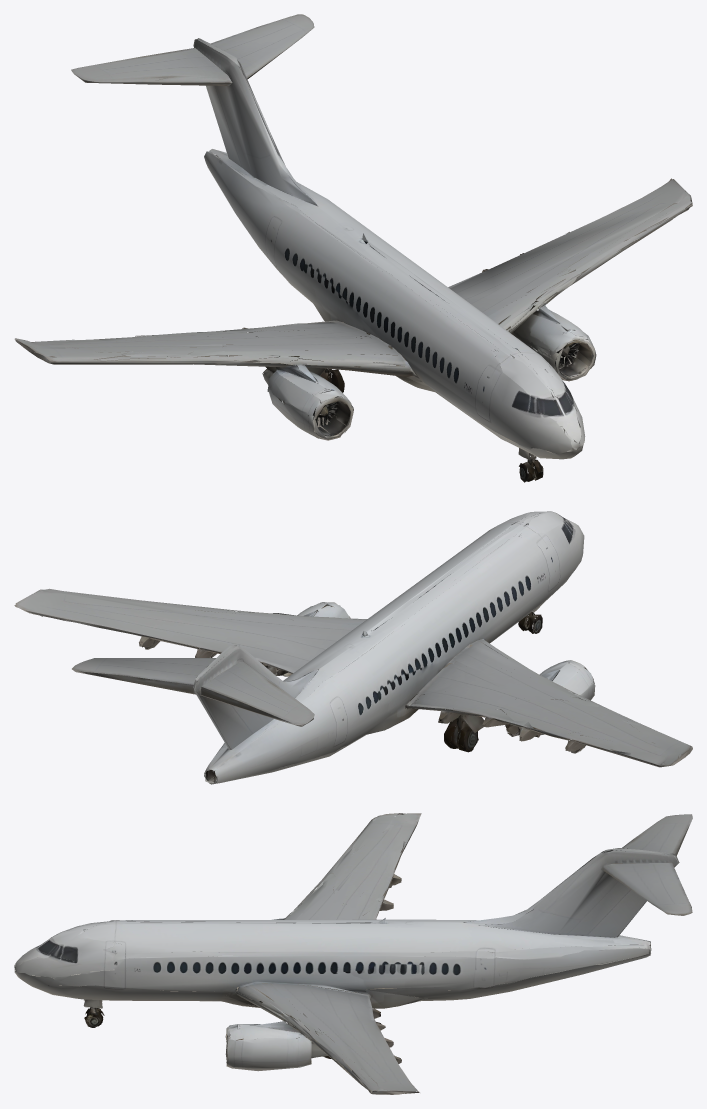
Rendered from airliner-white.glb.
The picture shows the model from 3 angles, top to bottom: view 1: azimuth 30°, elevation 25°; view 2: azimuth 150°, elevation 25°; view 3: azimuth 270°, elevation 25°; orthographic projection. The views are drawn at different scales.
Parts seen in each view (by area): view 1: node_0; view 2: node_0; view 3: node_0.
Part boxes in pixels (x1=…): node_0: x1=14, y1=14, x2=692, y2=482; node_0: x1=14, y1=511, x2=692, y2=784; node_0: x1=14, y1=813, x2=692, y2=1094.
Bounding box in the file's own units: 56.97 × 17.04 × 58.6.
Materials: 1 (1 with a texture image).
